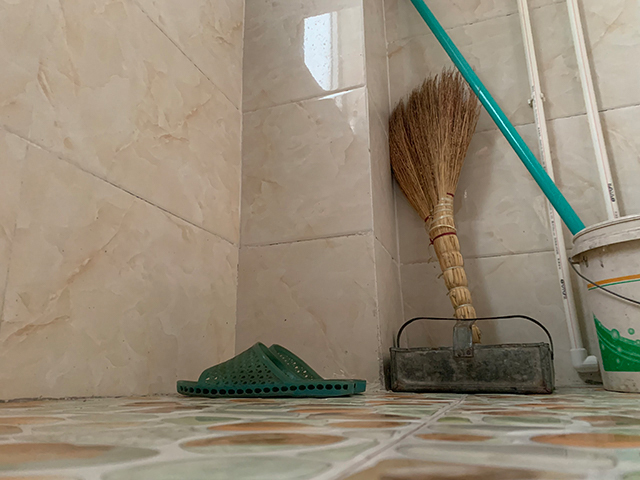slippers: (176, 341, 369, 401)
